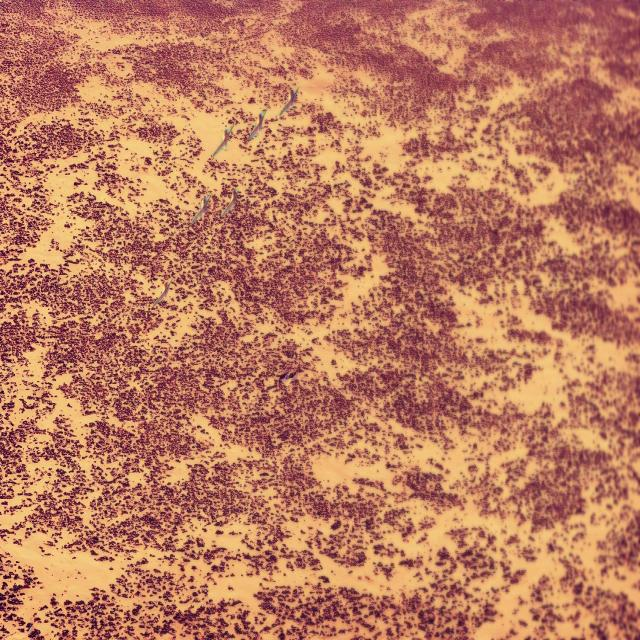airplane: (210, 123, 234, 158), (245, 109, 267, 142), (279, 85, 299, 118), (191, 192, 211, 224), (152, 278, 172, 308), (220, 189, 238, 218)
